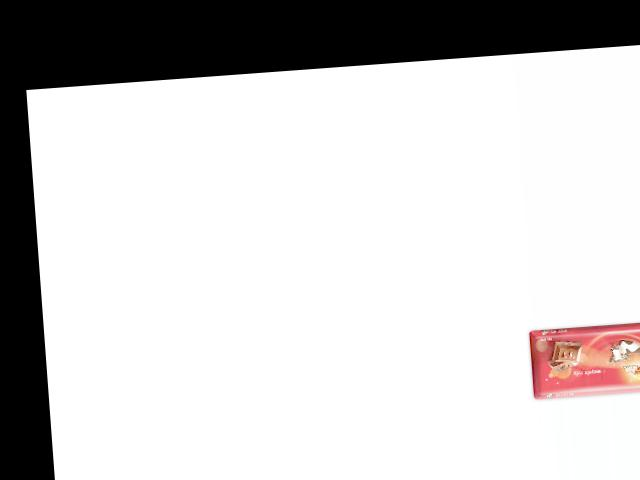chocolate: (526, 315, 640, 400)
